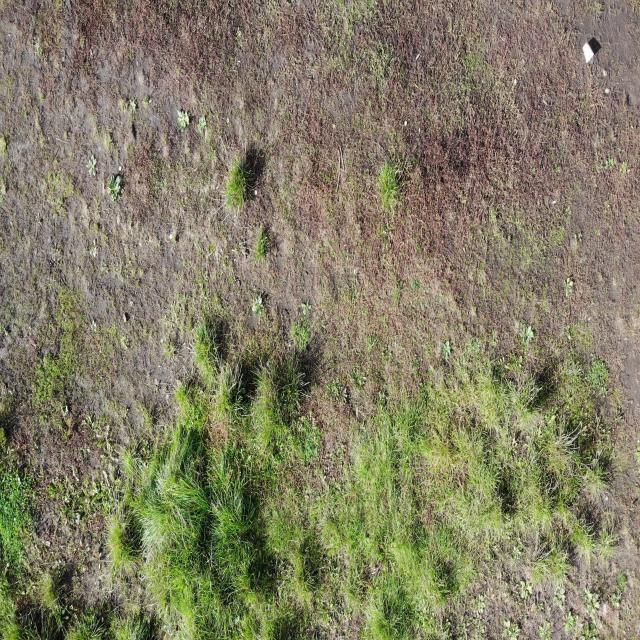rubbish: (581, 40, 596, 66)
